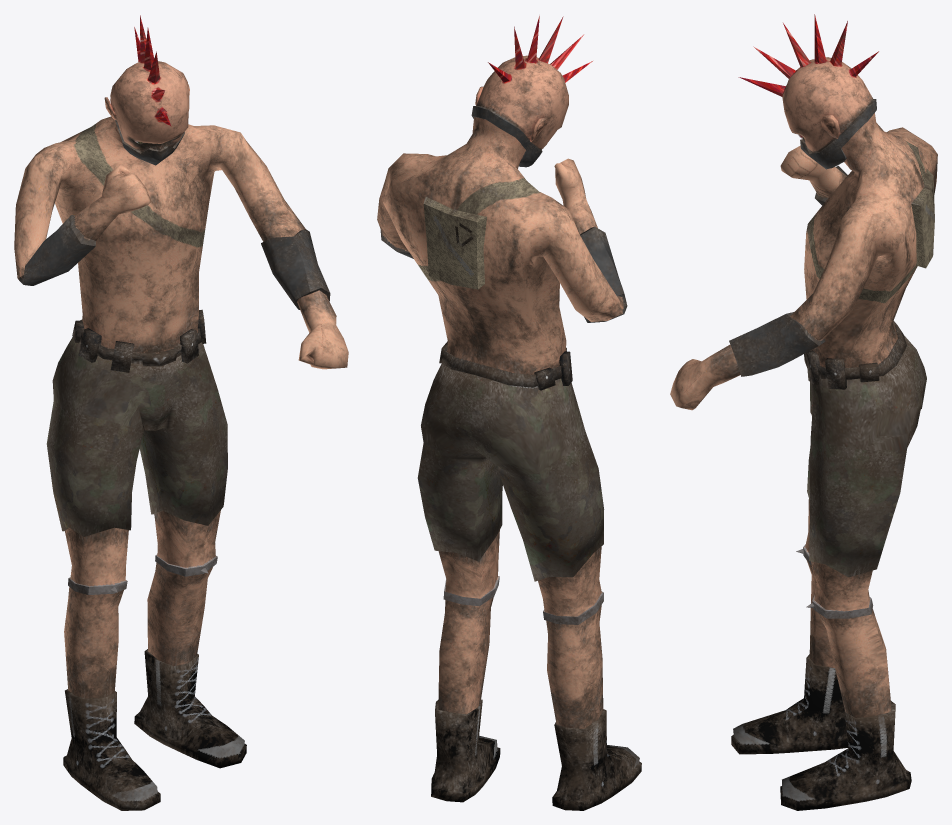
File: Anim_perder_1_npc2.0039.obj
The picture shows the model from 3 angles, left to right: view 1: azimuth 30°, elevation 25°; view 2: azimuth 150°, elevation 25°; view 3: azimuth 270°, elevation 25°; orthographic projection. The views are drawn at different scales.
Parts seen in each view (by area): view 1: polySurface1; view 2: polySurface1; view 3: polySurface1.
Boxes of the visible parts, x1=… form: polySurface1: x1=14, y1=15, x2=348, y2=810; polySurface1: x1=377, y1=15, x2=641, y2=810; polySurface1: x1=670, y1=14, x2=937, y2=810.
Size of the model in its own units: 3.66 by 9.88 by 3.18.
Materials: 2 (2 with a texture image).
